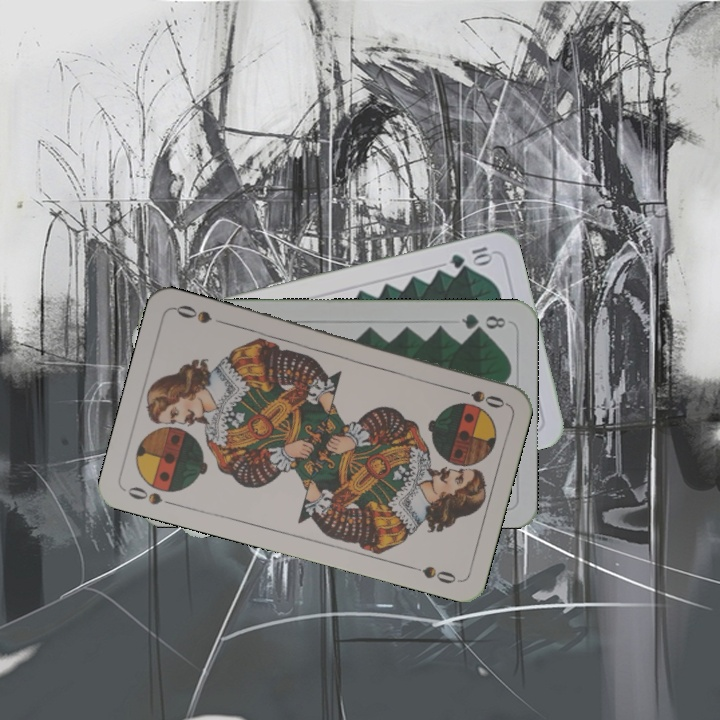G10: (446, 242, 495, 271)
G8: (457, 309, 508, 333)
SO: (450, 384, 507, 411), (123, 482, 180, 509)
